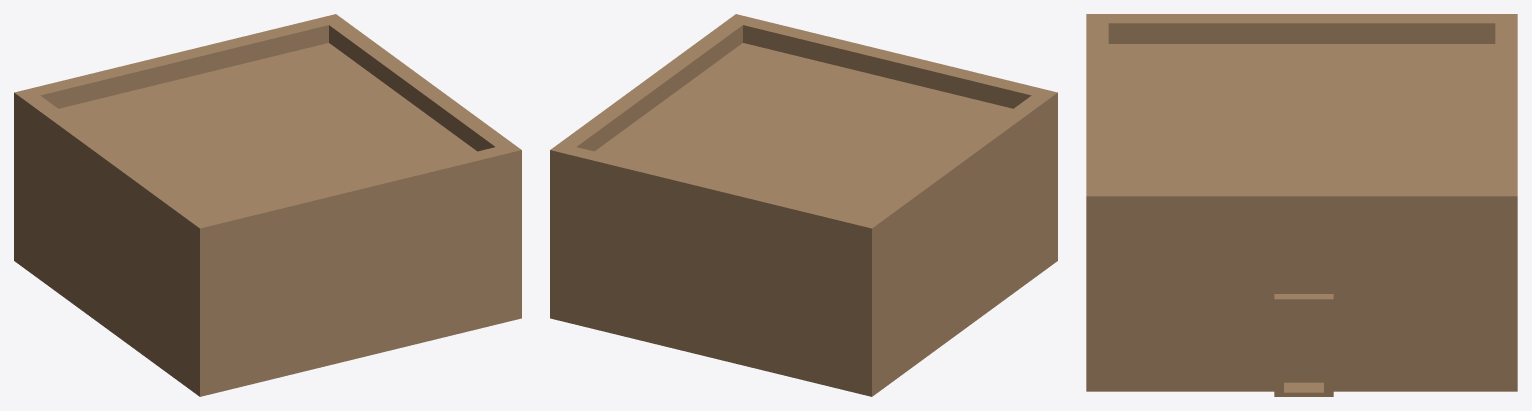
Rendered from scenery_house.glb.
3 renders of one model, left to right at view 1: azimuth 30°, elevation 25°; view 2: azimuth 150°, elevation 25°; view 3: azimuth 270°, elevation 25°, orthographic. The views are drawn at different scales.
Visible parts, largest first — view 1: Cube; view 2: Cube; view 3: Cube.
Boxes of the visible parts, x1=… form: Cube: x1=14, y1=14, x2=521, y2=396; Cube: x1=550, y1=14, x2=1057, y2=396; Cube: x1=1086, y1=14, x2=1517, y2=396.
Bounding box in the file's own units: 4.12 × 2 × 4.
